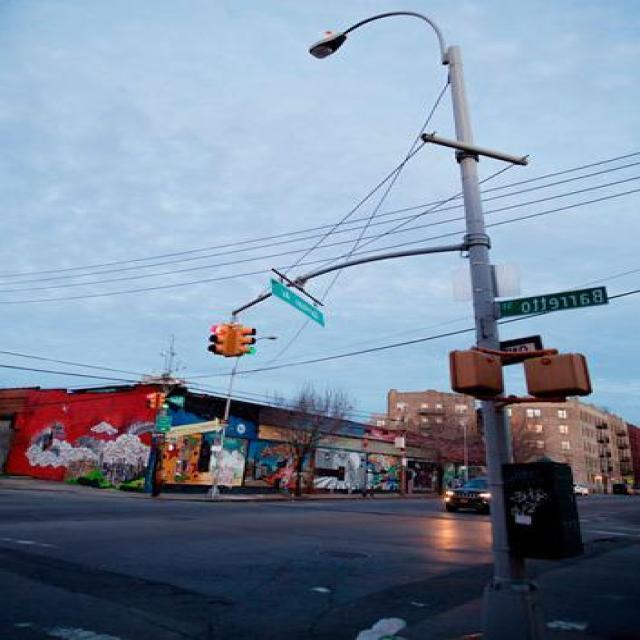off: (273, 0, 490, 96)
